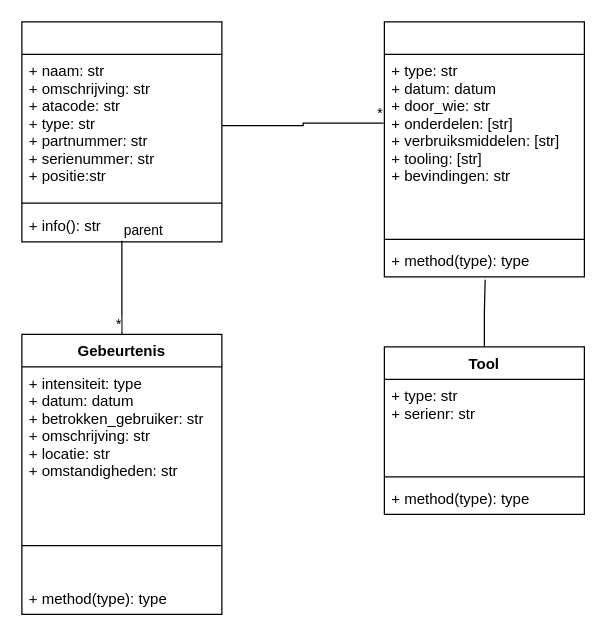
The diagram is 606 pixels wide and 640 high, and some of its shapes have lost their labels. Each missing label, with the box of its shape:
Materiaal: (21, 21, 222, 242)
Onderhoud: (383, 21, 584, 277)
